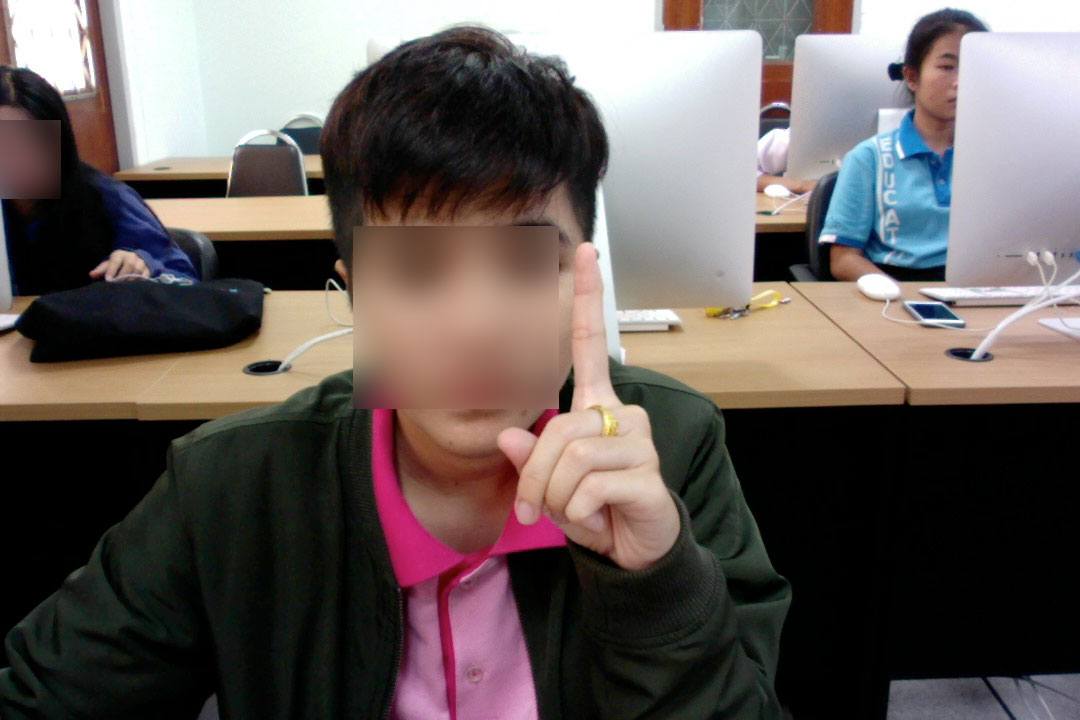dor: (483, 235, 689, 575)
